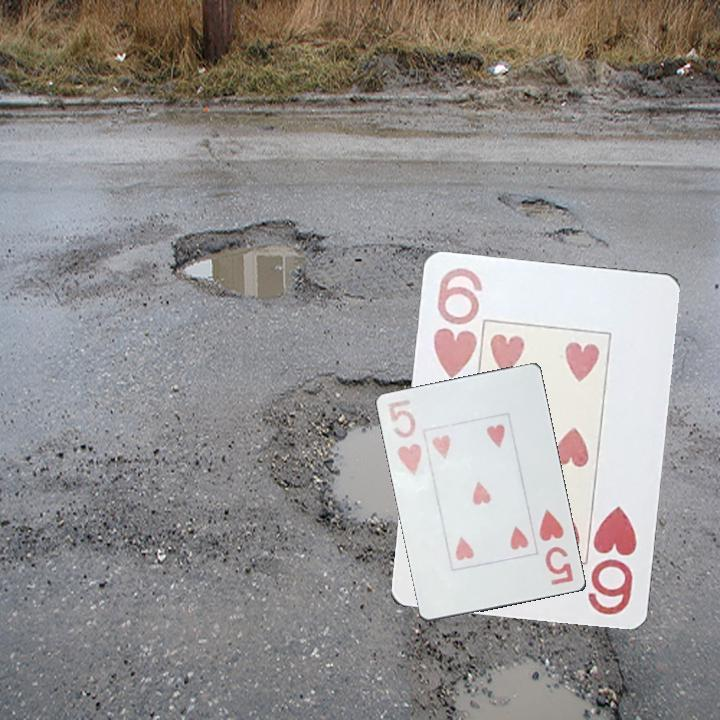5h: (383, 396, 425, 480), (536, 505, 577, 589)
6h: (429, 263, 483, 381), (585, 502, 640, 617)
